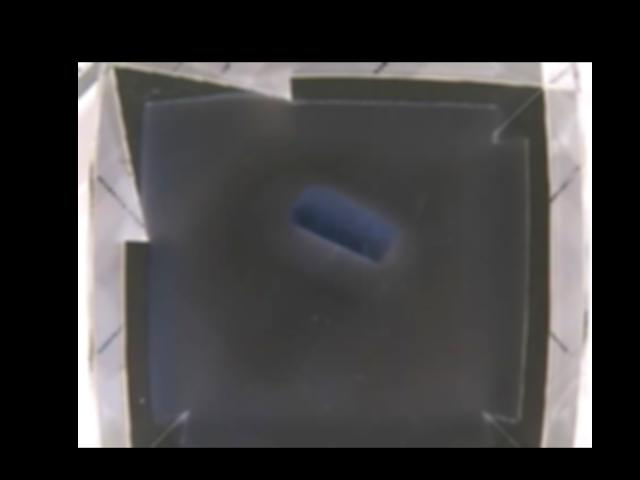Mooli: (292, 187, 400, 266)
